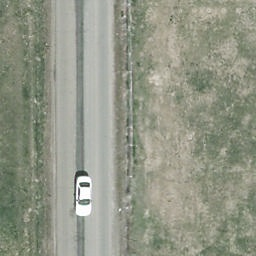car: (75, 177, 93, 217)
